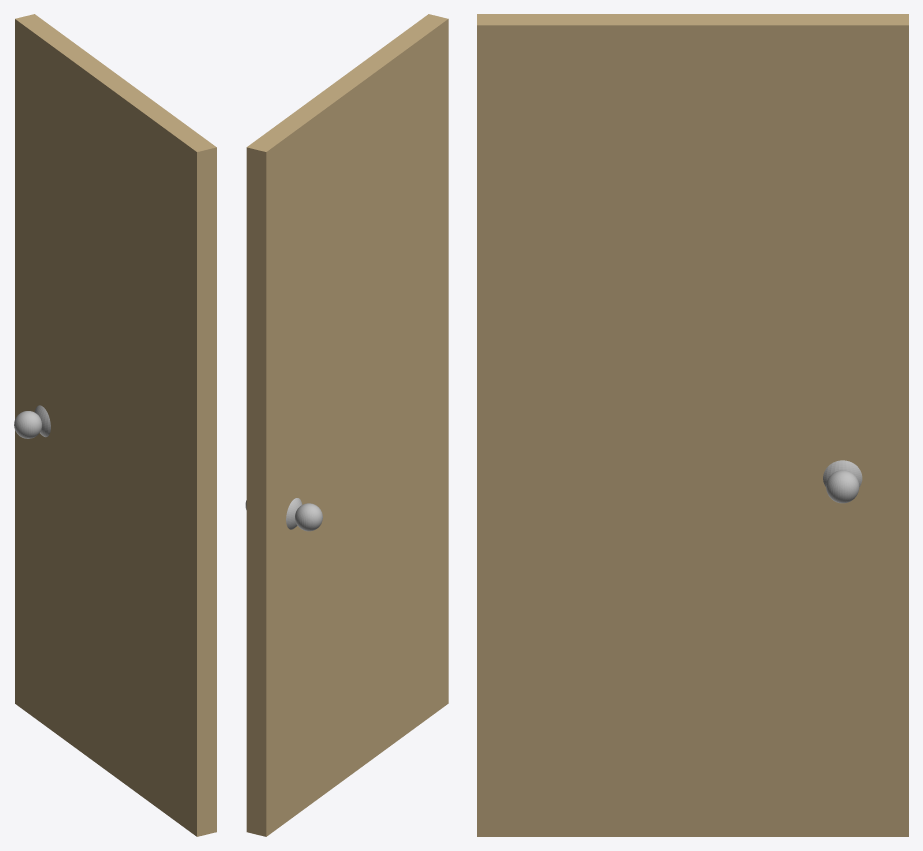
The model's file is new_door.glb.
The picture shows the model from 3 angles, left to right: view 1: azimuth 30°, elevation 25°; view 2: azimuth 150°, elevation 25°; view 3: azimuth 270°, elevation 25°; orthographic projection. The views are drawn at different scales.
Parts seen in each view (by area): view 1: door_main, knob.001; view 2: door_main, knob.001; view 3: door_main, knob.
Boxes of the visible parts, x1,y1,x2,y2 form: door_main: (15,14,216,836); knob.001: (14,405,50,438); door_main: (246,14,448,836); knob.001: (286,498,322,531); door_main: (477,14,908,836); knob: (823,460,862,503).
Size of the model in its own units: 0.4672 by 4.15 by 2.
